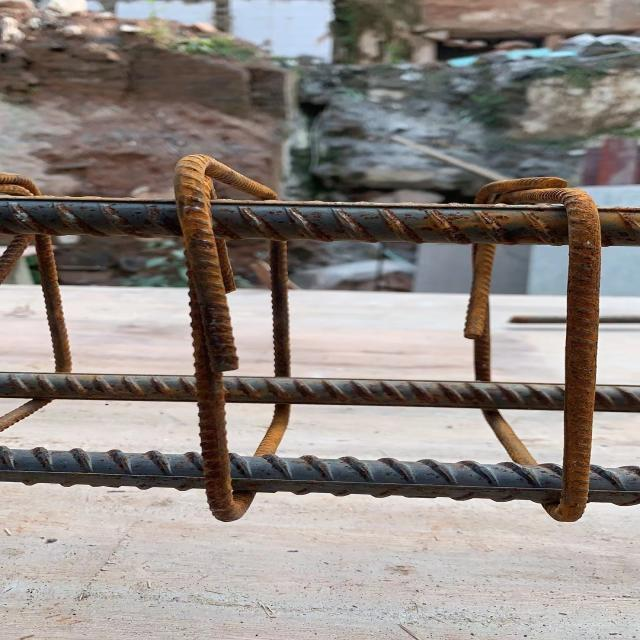ribbed bar: (0, 446, 639, 505), (0, 191, 639, 247), (0, 370, 639, 414), (172, 152, 246, 524), (551, 177, 603, 528), (28, 235, 76, 375), (461, 246, 492, 382), (266, 242, 293, 380)
